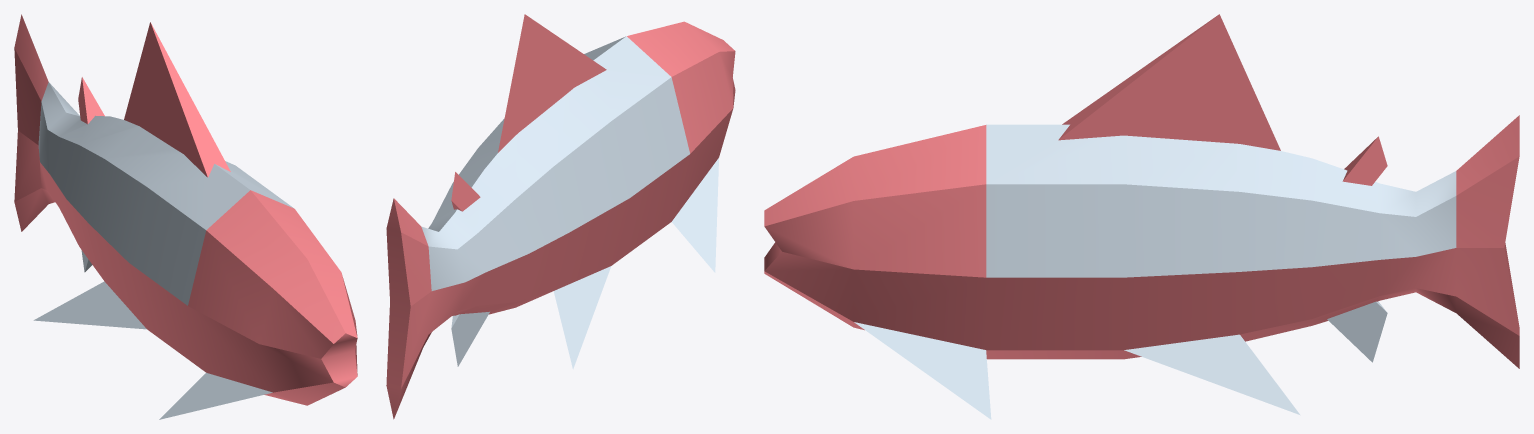
The model's file is Fish.glb.
3 views of the same model, side by side, from view 1: azimuth 30°, elevation 25°; view 2: azimuth 150°, elevation 25°; view 3: azimuth 270°, elevation 25° (orthographic). The views are drawn at different scales.
Visible parts, largest first — view 1: fish; view 2: fish; view 3: fish.
Part boxes in pixels (x1,y1,x2,y2): fish: [14, 14, 357, 419]; fish: [386, 14, 735, 419]; fish: [764, 14, 1519, 419].
Bounding box in the file's own units: 0.1978 × 0.3222 × 0.6208.
